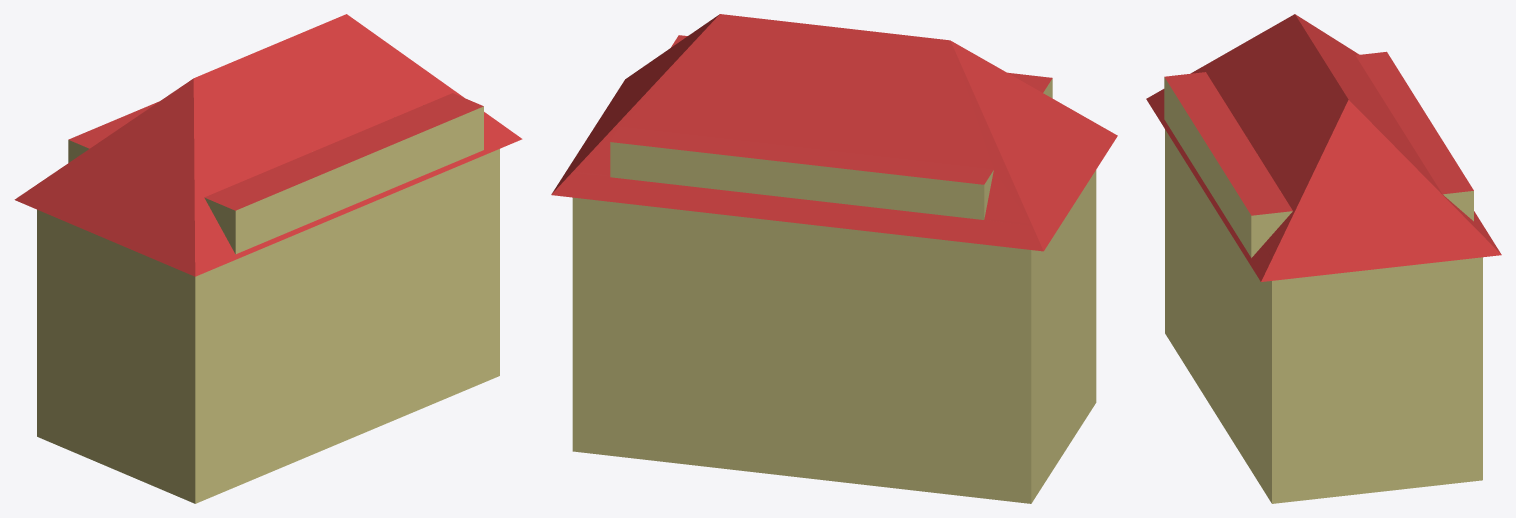
3 renders of one model, left to right at view 1: azimuth 30°, elevation 25°; view 2: azimuth 150°, elevation 25°; view 3: azimuth 270°, elevation 25°, orthographic. The views are drawn at different scales.
Visible parts, largest first — view 1: group_7, group_3, group_5, group_4, group_6; view 2: group_7, group_3, group_5, group_4, group_6; view 3: group_7, group_3, group_4, group_5, group_6.
Boxes of the visible parts, <box> form: group_7: <box>37,149,499,503</box>; group_3: <box>14,14,519,276</box>; group_5: <box>68,106,483,254</box>; group_4: <box>68,93,483,210</box>; group_6: <box>15,123,522,276</box>; group_7: <box>572,170,1096,503</box>; group_3: <box>551,14,1117,251</box>; group_5: <box>610,78,1052,219</box>; group_4: <box>610,35,1052,184</box>; group_6: <box>553,73,1116,250</box>; group_7: <box>1165,129,1482,503</box>; group_3: <box>1147,14,1501,281</box>; group_4: <box>1164,51,1473,215</box>; group_5: <box>1164,77,1473,257</box>; group_6: <box>1146,89,1500,281</box>.
Size of the model in its own units: 24.06 by 17.21 by 18.7.
